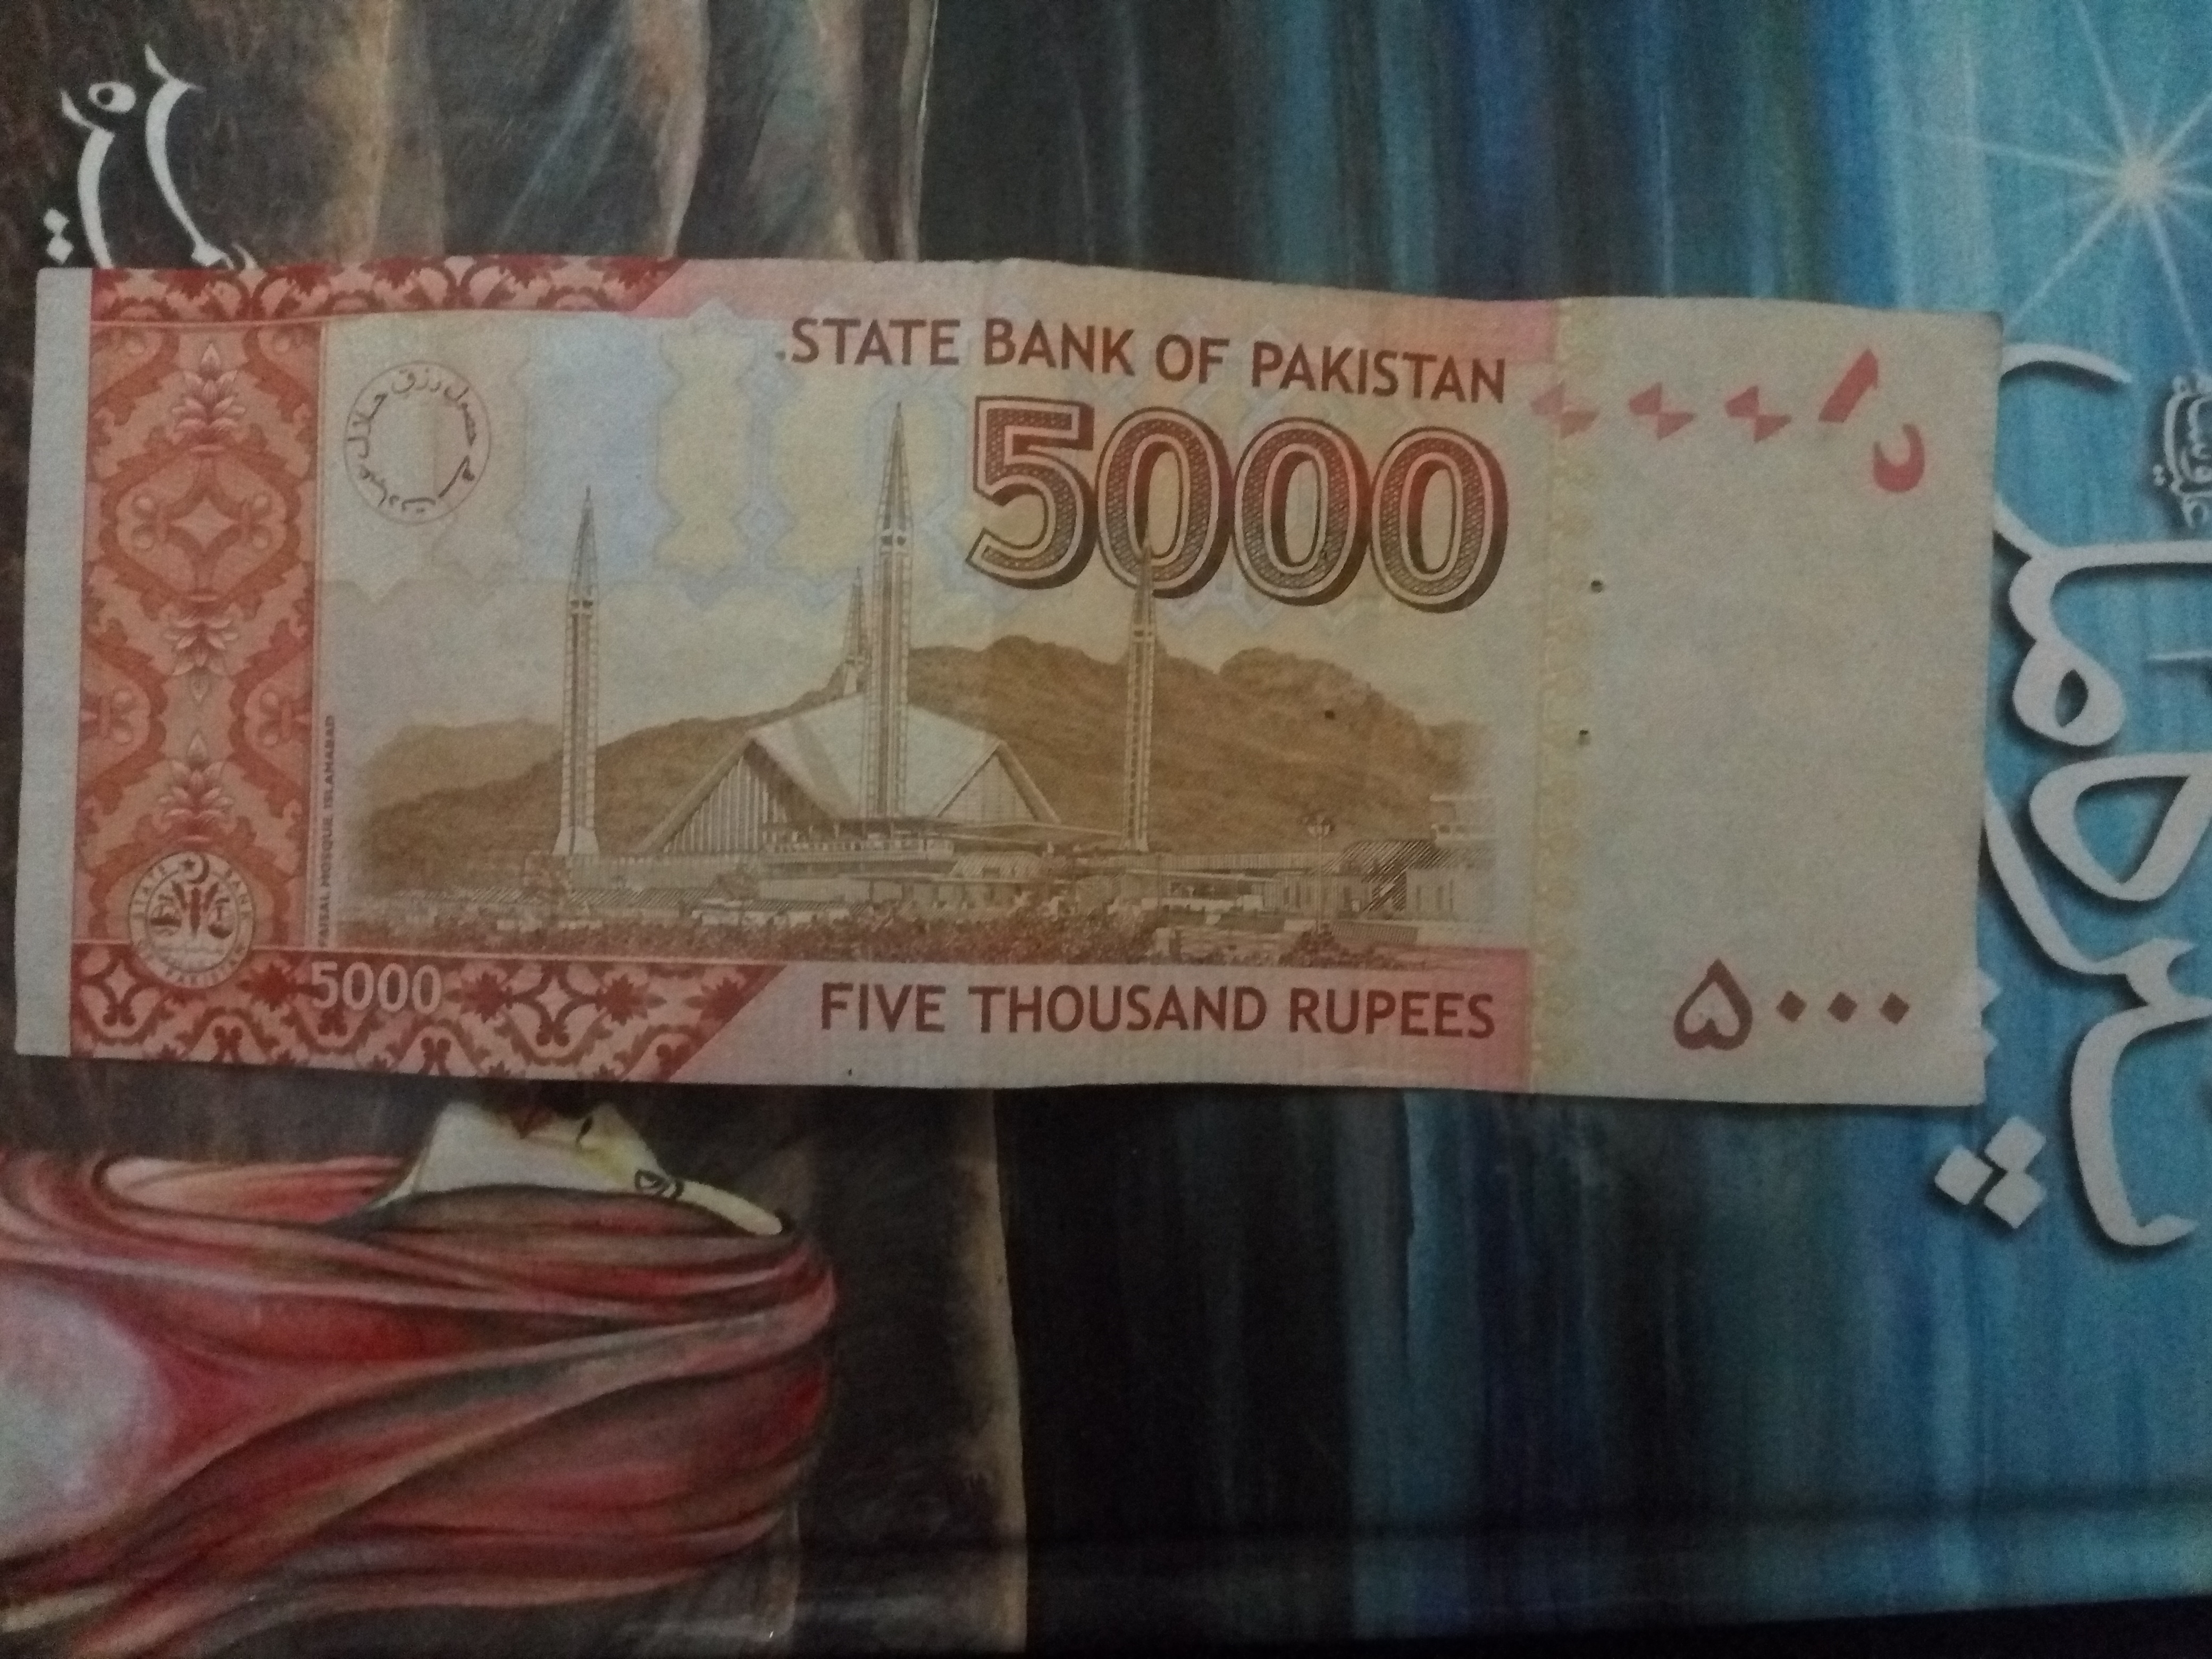5000 rupee: (19, 220, 1993, 1157)
